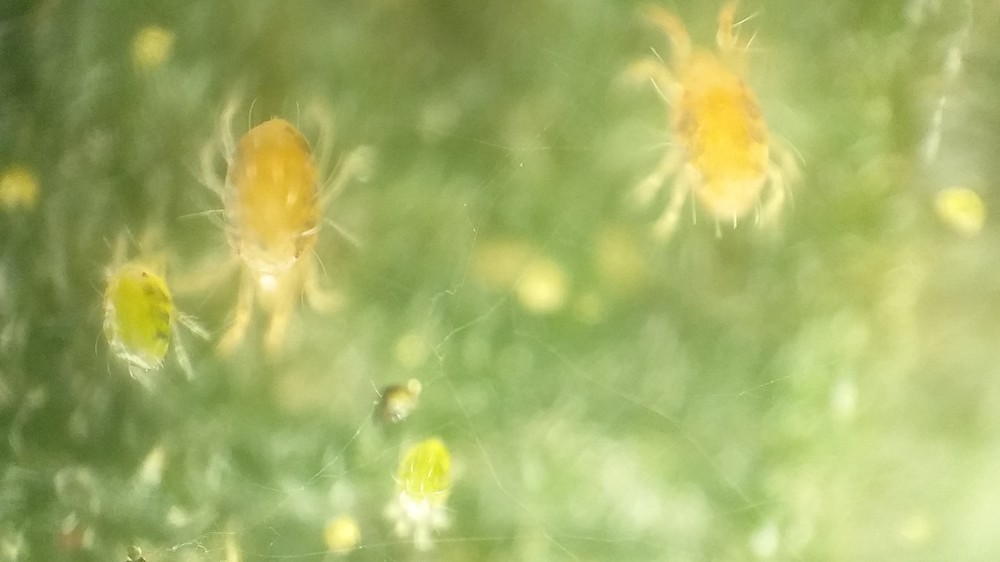Aracnido Rojo: (177, 92, 365, 363), (624, 11, 823, 252), (73, 235, 217, 399), (375, 429, 467, 548)
